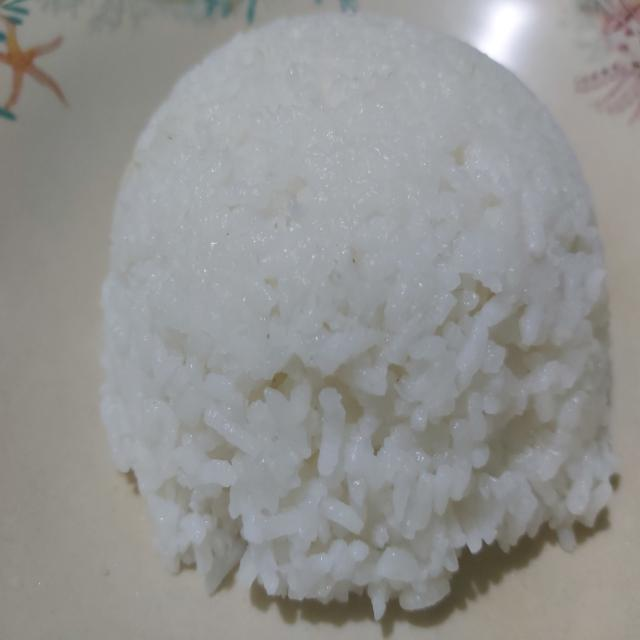Chicken -Chicken Inasal-: (86, 9, 634, 624)
